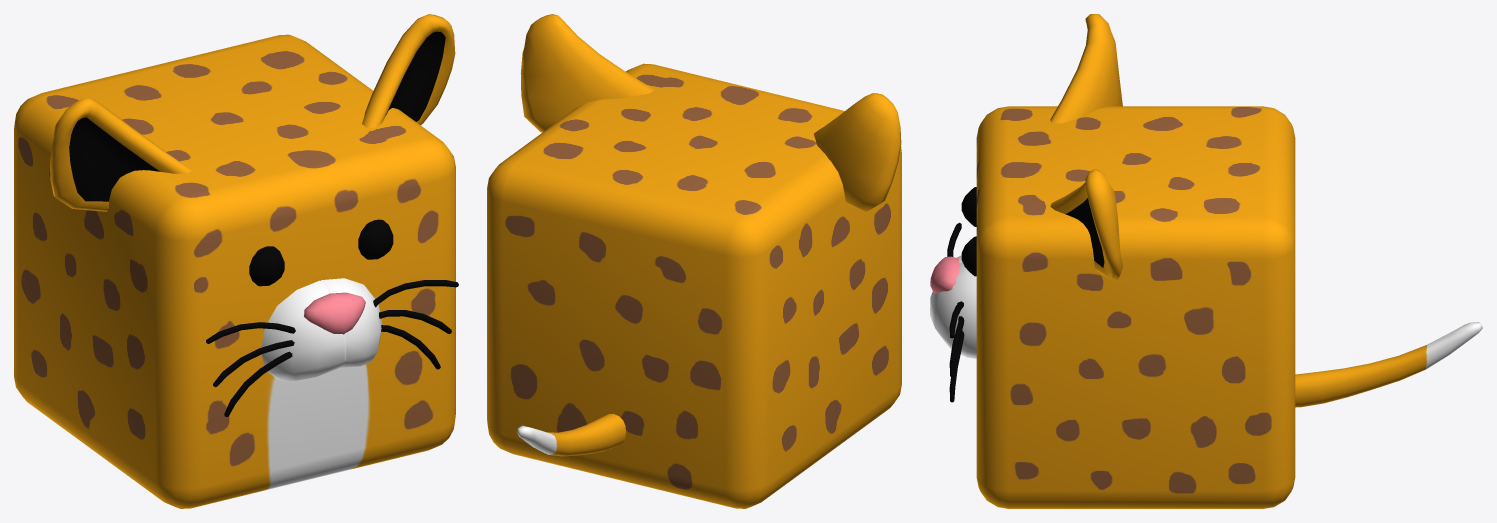
File: Leopard.fbx
3 views of the same model, side by side, from view 1: azimuth 30°, elevation 25°; view 2: azimuth 150°, elevation 25°; view 3: azimuth 270°, elevation 25° (orthographic). The views are drawn at different scales.
Parts seen in each view (by area): view 1: Leopard; view 2: Leopard; view 3: Leopard.
Boxes of the visible parts, left/top/right/bottom form: Leopard: left=14, top=14, right=458, bottom=508; Leopard: left=487, top=14, right=901, bottom=508; Leopard: left=930, top=14, right=1482, bottom=508.
Bounding box in the file's own units: 271 × 249 × 347.
